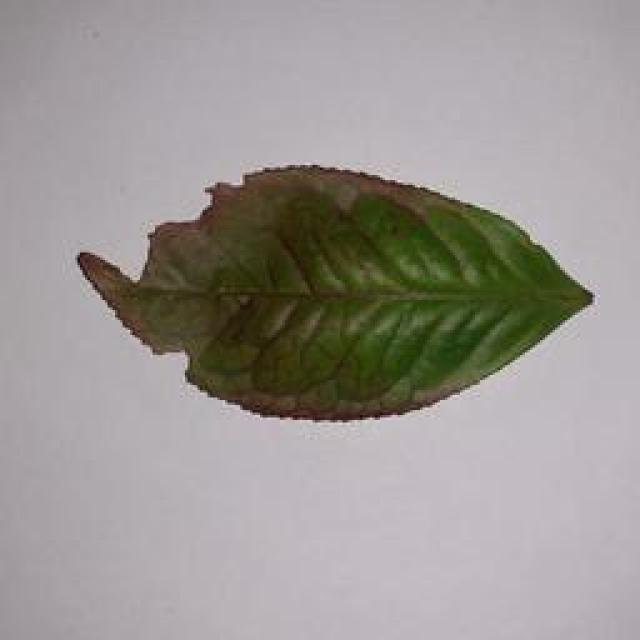Red Leaf Spot: (81, 175, 598, 432)
